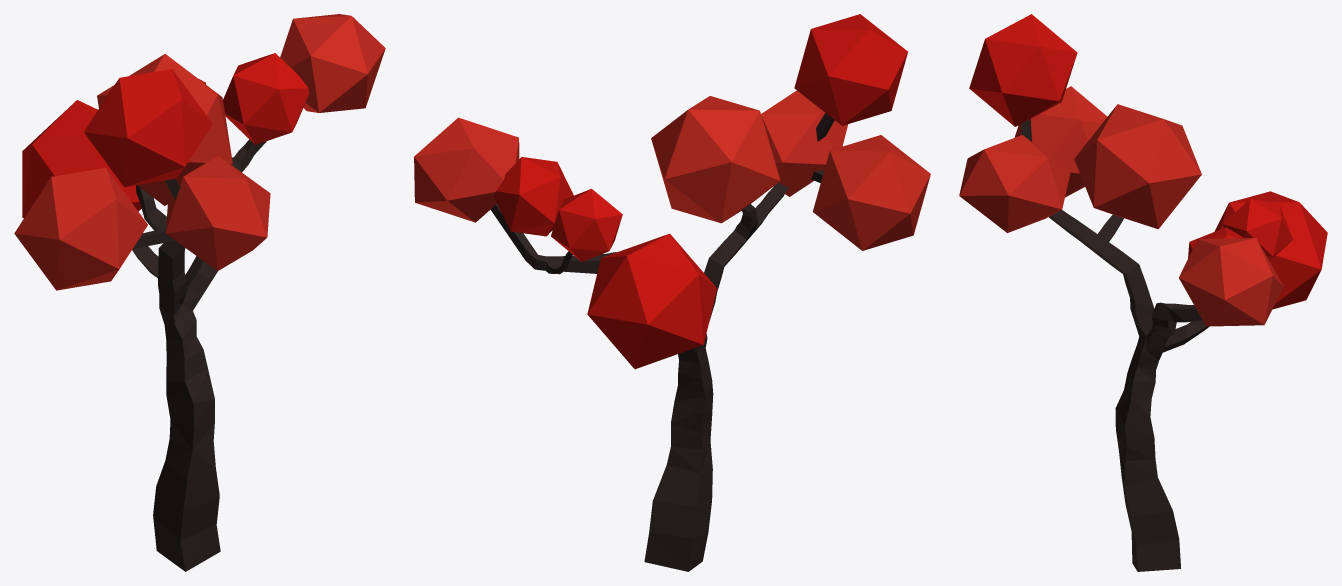
File: tree2.obj
The picture shows the model from 3 angles, left to right: view 1: azimuth 30°, elevation 25°; view 2: azimuth 150°, elevation 25°; view 3: azimuth 270°, elevation 25°; orthographic projection. The views are drawn at different scales.
Visible parts, largest first — view 1: Cube.001_Leaf_1, Cube.001_Leaf_2, Cube.001_Trunk; view 2: Cube.001_Leaf_1, Cube.001_Leaf_2, Cube.001_Trunk; view 3: Cube.001_Leaf_1, Cube.001_Leaf_2, Cube.001_Trunk.
Part boxes in pixels (x1=…): Cube.001_Leaf_1: x1=14, y1=14, x2=385, y2=290; Cube.001_Leaf_2: x1=22, y1=53, x2=309, y2=217; Cube.001_Trunk: x1=132, y1=139, x2=266, y2=571; Cube.001_Leaf_1: x1=414, y1=90, x2=930, y2=250; Cube.001_Leaf_2: x1=493, y1=14, x2=907, y2=369; Cube.001_Trunk: x1=490, y1=113, x2=834, y2=571; Cube.001_Leaf_1: x1=959, y1=86, x2=1283, y2=326; Cube.001_Leaf_2: x1=969, y1=14, x2=1327, y2=309; Cube.001_Trunk: x1=1021, y1=119, x2=1209, y2=571.
Bounding box in the file's own units: 13.68 × 16.4 × 11.03.
